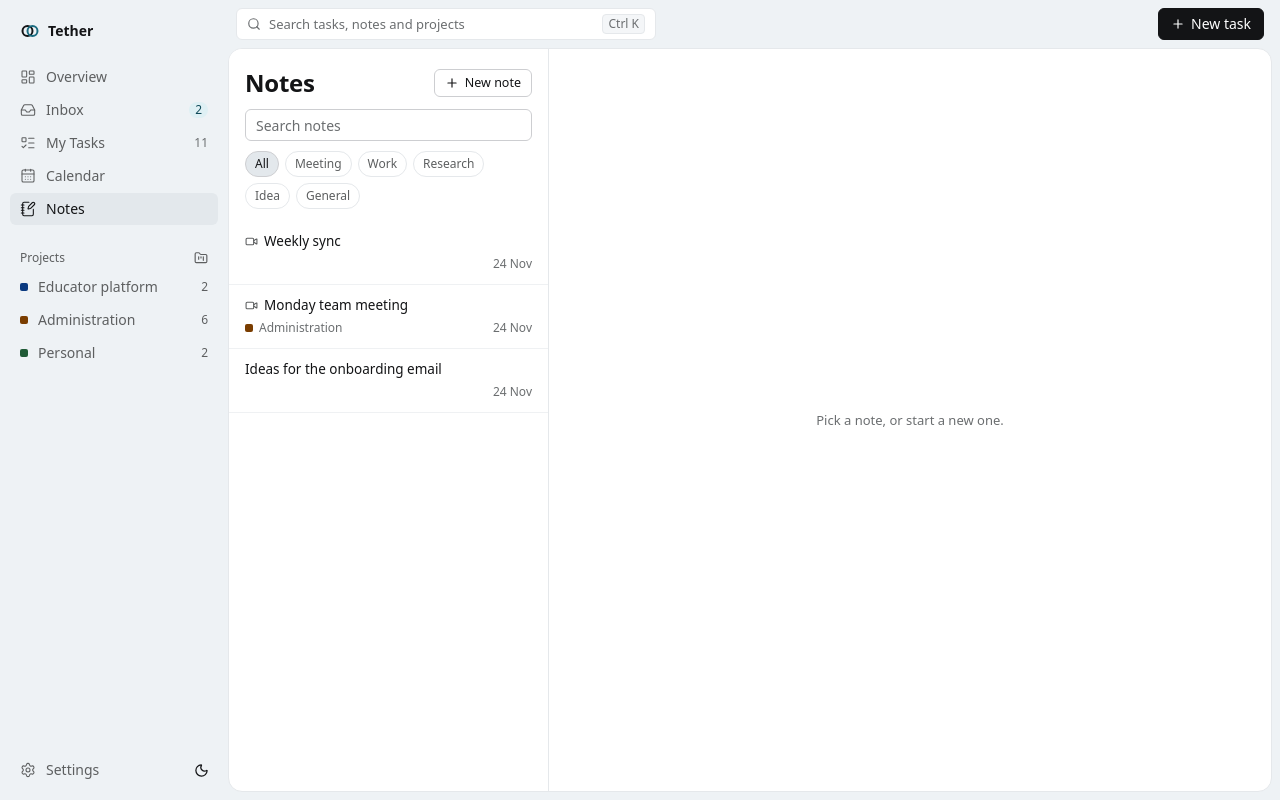
Test: Notes › lists notes and filters by kind
This screenshot has width=1280, height=800.
Check: the text "Weekly sync" is shown, box [264,231,341,251]
Check: the text "Ideas for the onboarding email" is shown, box [245,359,442,379]
Click the button "Idea" at point(268, 196), box [245,183,290,209]
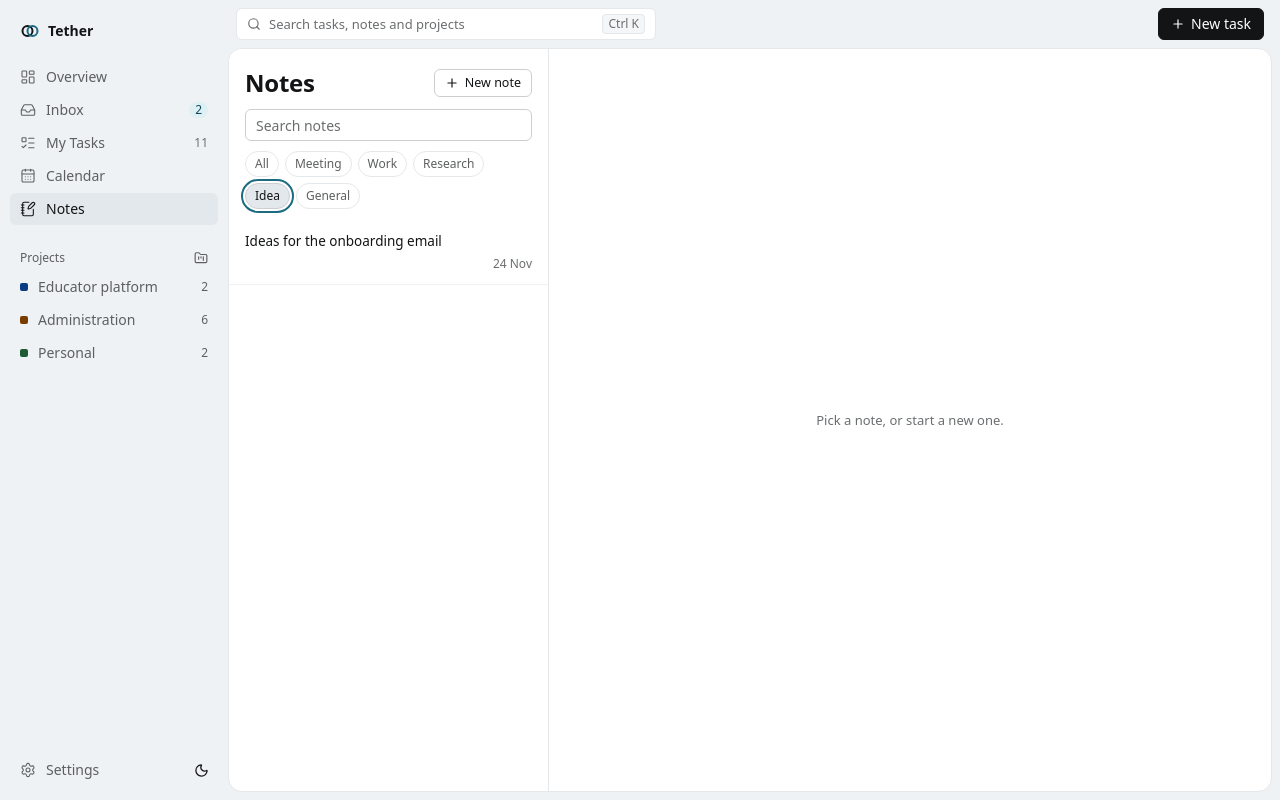
Check: the text "Ideas for the onboarding email" is shown, box [245,231,442,251]
Check: the button "Weekly sync" is gone
Click the button "Research" at point(449, 164), box [413,151,484,177]
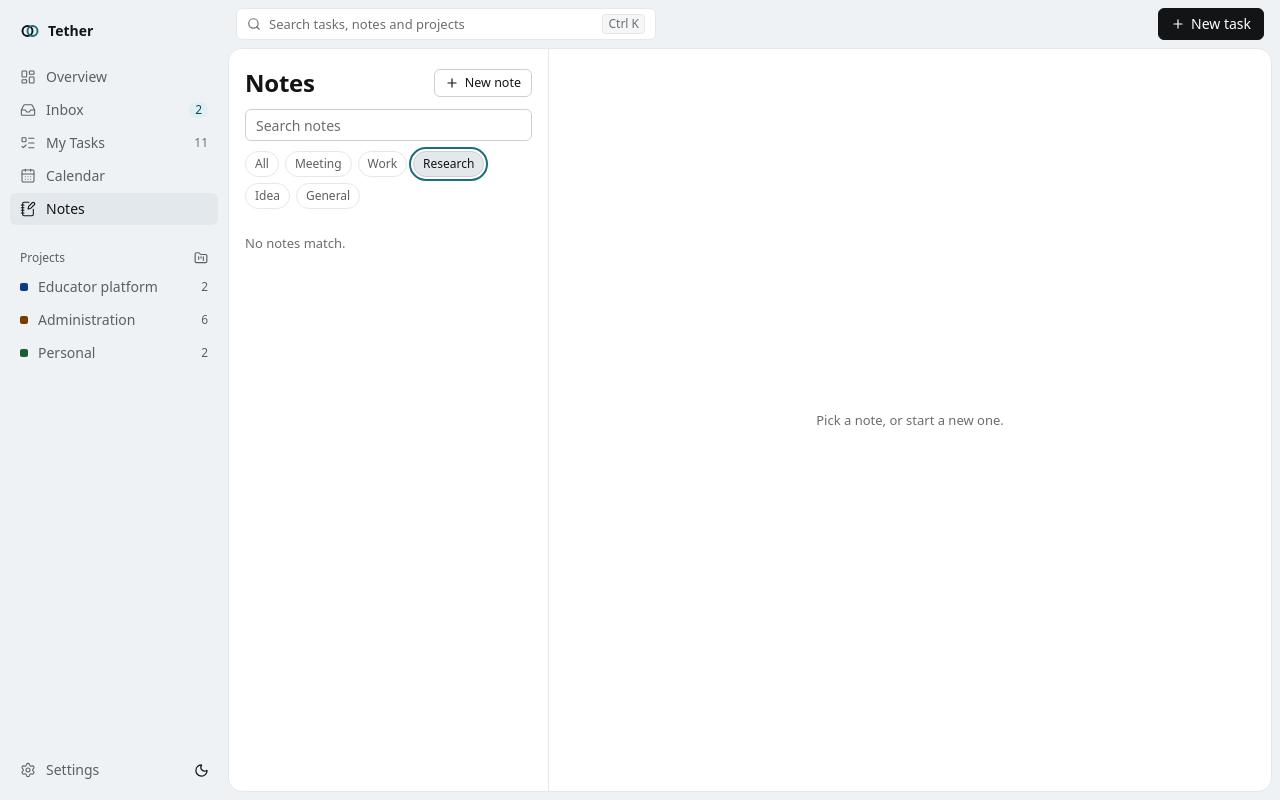
Check: the list item "No notes match." is shown, box [245,234,346,252]
